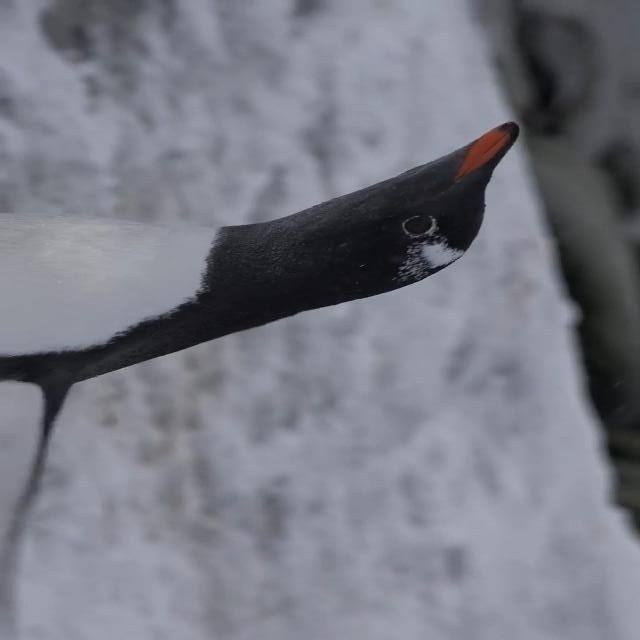penguin: (2, 120, 522, 498)
